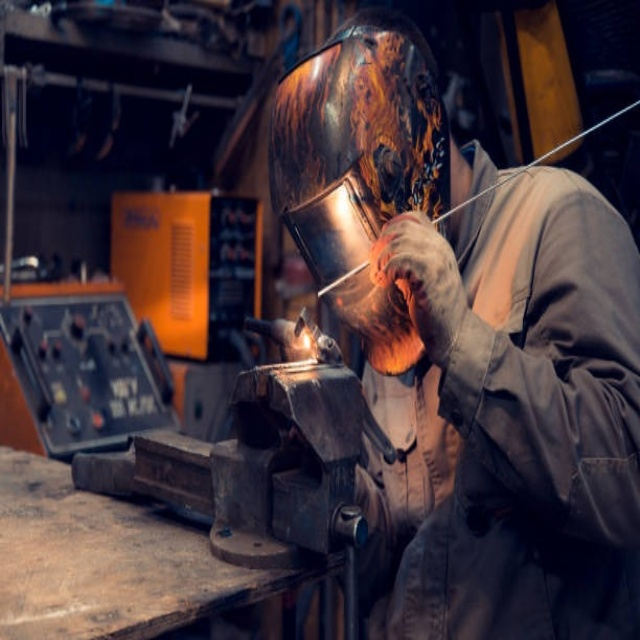Guantes: (364, 205, 487, 417)
